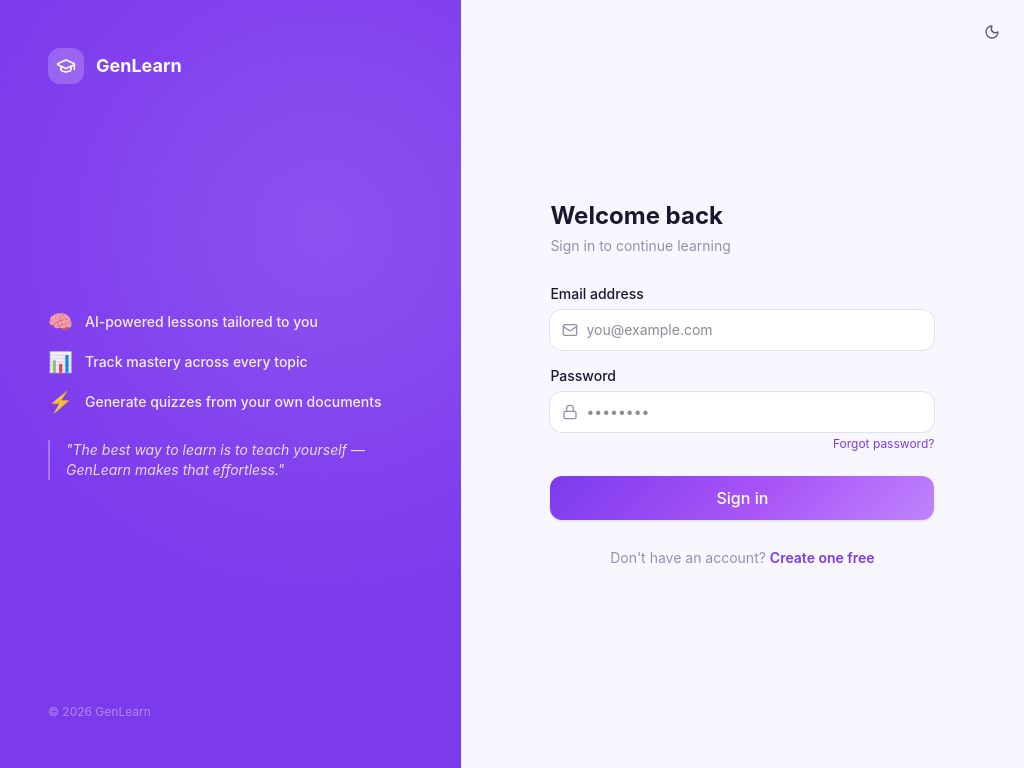
Test: LoginPage › shows validation error for empty password
Type "test@test.com" into the field labelled "Email address" at (742, 330), box [550,310,934,350]
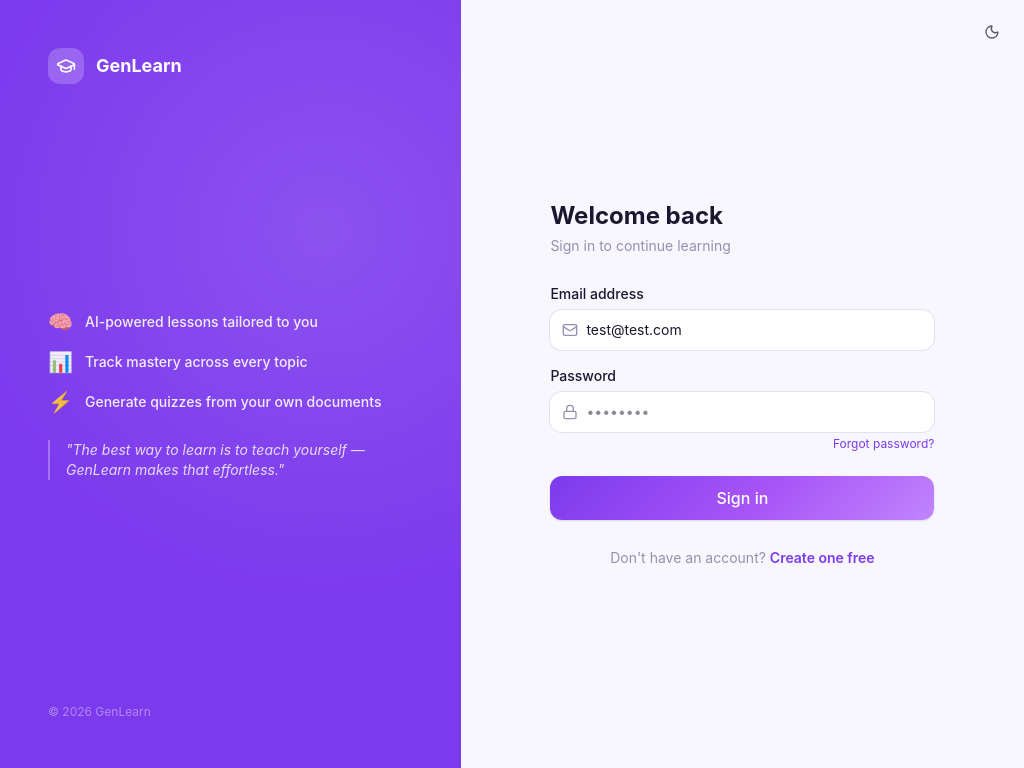
Submit the form from the button "Sign in", box [550,476,934,520]
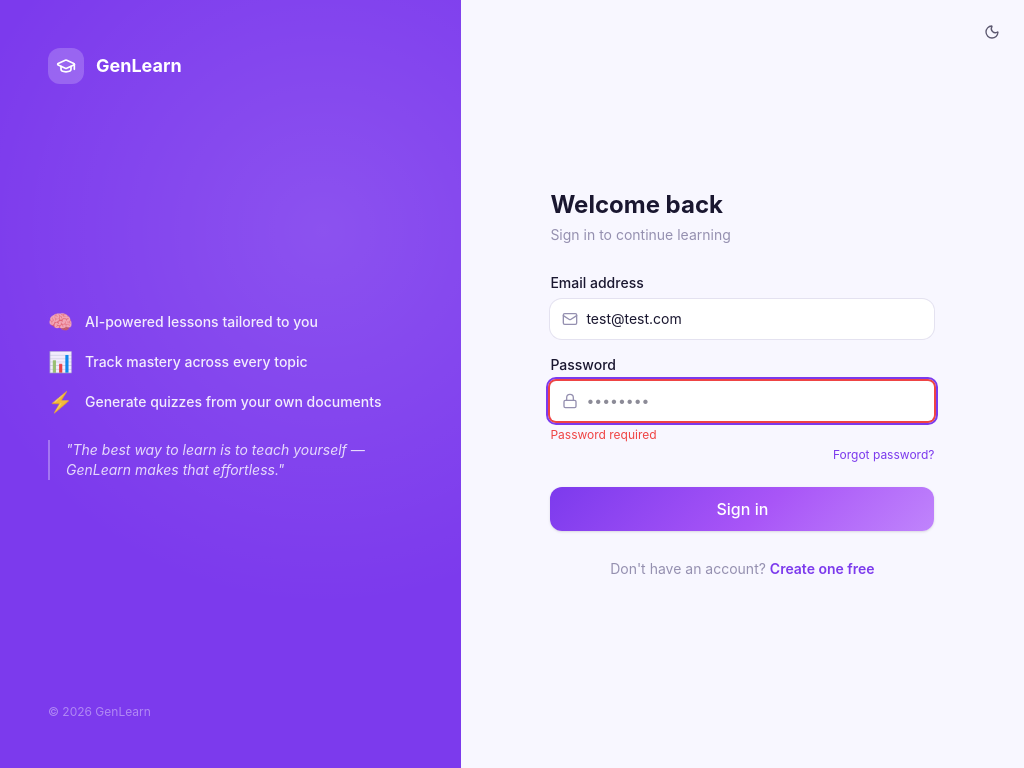
Check: the text "Password required" is shown, box [550,427,657,442]
